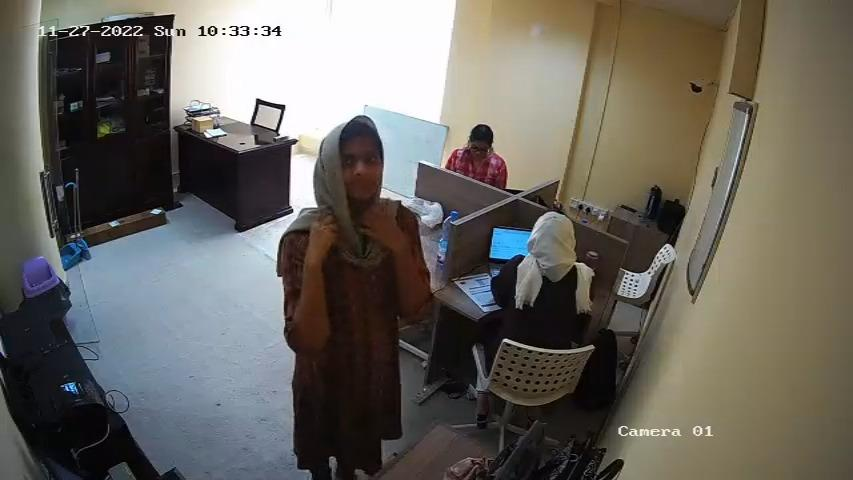no_apron: (328, 248, 399, 431)
